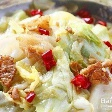juanxincairoupian: (1, 4, 112, 112)
